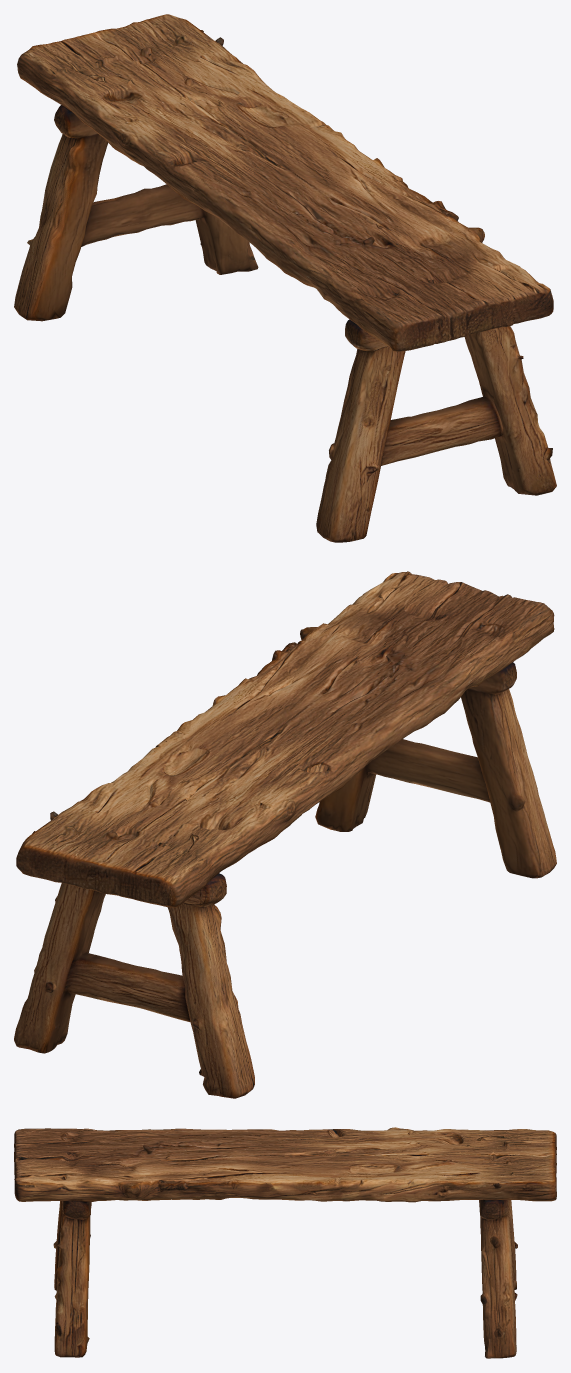
Rendered from scene-bench-wood-v03.glb.
The picture shows the model from 3 angles, top to bottom: view 1: azimuth 30°, elevation 25°; view 2: azimuth 150°, elevation 25°; view 3: azimuth 270°, elevation 25°; orthographic projection. The views are drawn at different scales.
Parts seen in each view (by area): view 1: tripo_node_5dd7a74f-bc41-410a-b943-29c6a5b99564; view 2: tripo_node_5dd7a74f-bc41-410a-b943-29c6a5b99564; view 3: tripo_node_5dd7a74f-bc41-410a-b943-29c6a5b99564.
Part boxes in pixels (x1,y1,x2,y2): tripo_node_5dd7a74f-bc41-410a-b943-29c6a5b99564: (14, 14, 556, 542); tripo_node_5dd7a74f-bc41-410a-b943-29c6a5b99564: (14, 571, 556, 1098); tripo_node_5dd7a74f-bc41-410a-b943-29c6a5b99564: (14, 1127, 556, 1358).
Bounding box in the file's own units: 0.4669 × 0.46 × 1.35.
1 material, 1 textured.
